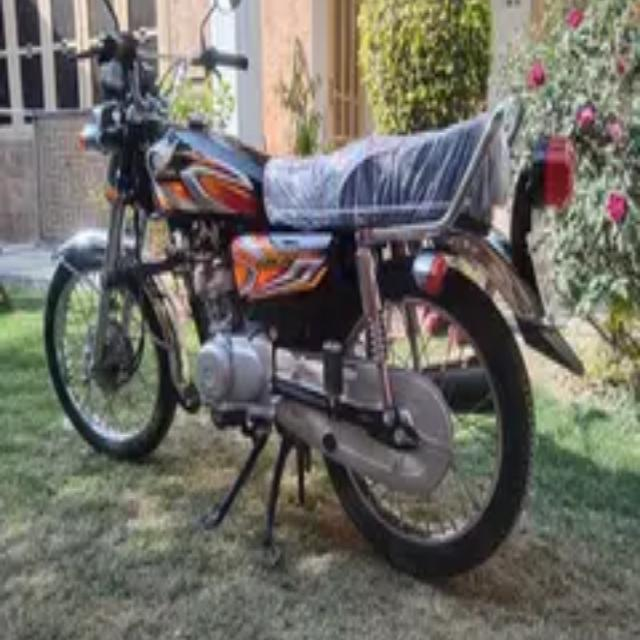Bike: (84, 21, 554, 566)
